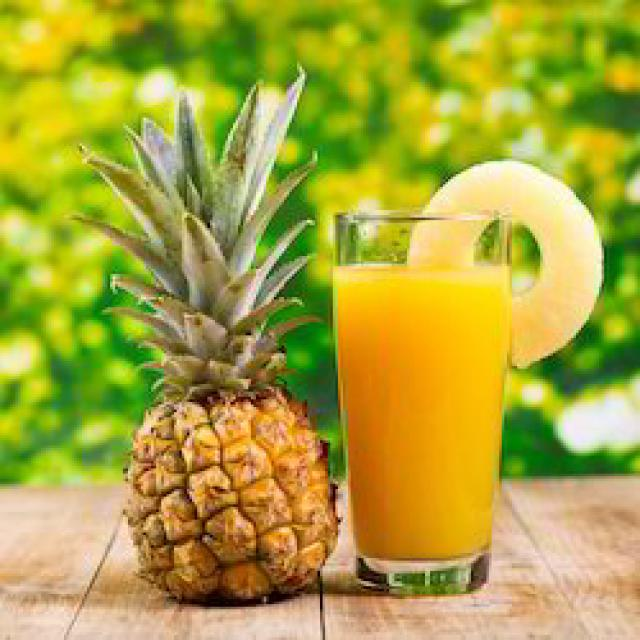pineapple: (74, 87, 343, 604)
